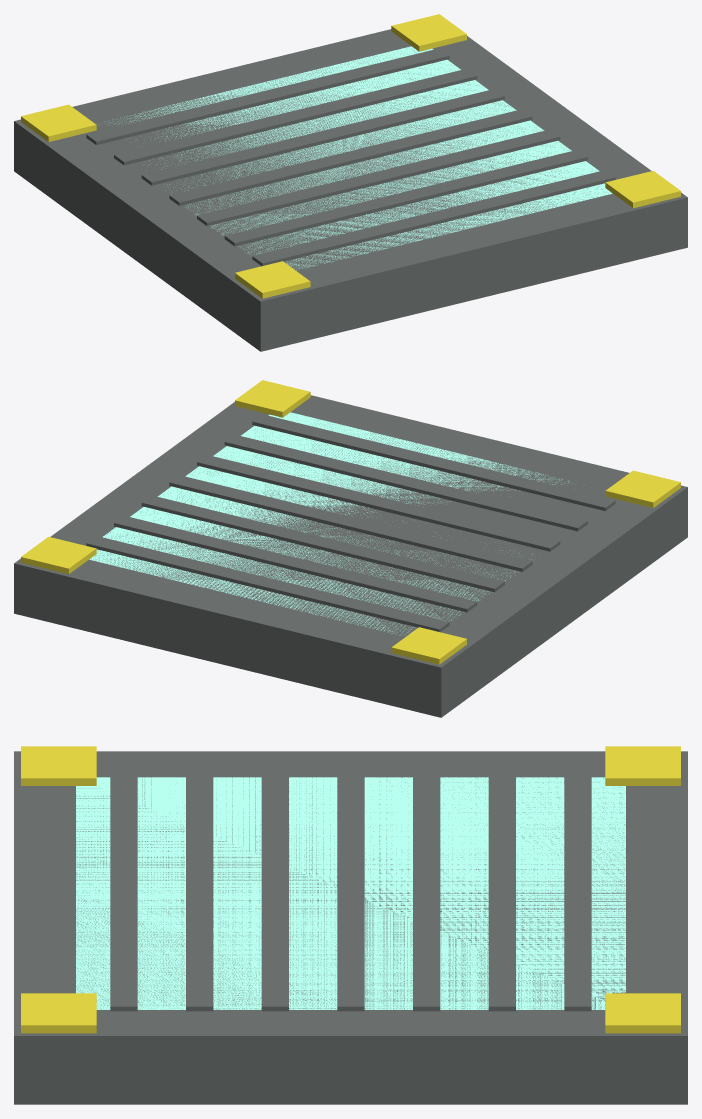
File: floor-tile-toxic.glb
The picture shows the model from 3 angles, top to bottom: view 1: azimuth 30°, elevation 25°; view 2: azimuth 150°, elevation 25°; view 3: azimuth 270°, elevation 25°; orthographic projection. The views are drawn at different scales.
Visible parts, largest first — view 1: Toxic_Floor_Slab, Toxic_Acid_Sub, Cube.001, Cube.003, Cube.005, Cube.002, Cube.006, Cube.004, Cube, Cube.010, Cube.007, Cube.008 (+1 smaller); view 2: Toxic_Floor_Slab, Toxic_Acid_Sub, Cube.005, Cube.001, Cube.003, Cube.004, Cube, Cube.002, Cube.006, Cube.009, Cube.008, Cube.007 (+1 smaller); view 3: Toxic_Floor_Slab, Toxic_Acid_Sub, Cube, Cube.003, Cube.006, Cube.001, Cube.002, Cube.004, Cube.005, Cube.009, Cube.010, Cube.007 (+1 smaller).
Part boxes in pixels (x1,y1,x2,y2): Toxic_Floor_Slab: (14, 29, 687, 351); Toxic_Acid_Sub: (110, 46, 612, 270); Cube.001: (224, 149, 587, 246); Cube.003: (169, 109, 532, 205); Cube.005: (114, 68, 477, 165); Cube.002: (197, 129, 560, 226); Cube.006: (86, 48, 449, 144); Cube.004: (141, 89, 504, 185); Cube: (252, 170, 615, 265); Cube.010: (391, 14, 466, 51); Cube.007: (235, 261, 310, 298); Cube.008: (21, 104, 96, 141); Toxic_Floor_Slab: (14, 395, 687, 717); Toxic_Acid_Sub: (89, 412, 568, 635); Cube.005: (114, 515, 477, 612); Cube.001: (224, 434, 587, 531); Cube.003: (169, 475, 532, 571); Cube.004: (141, 495, 504, 592); Cube: (252, 414, 615, 510); Cube.002: (197, 455, 560, 551); Cube.006: (86, 536, 449, 631); Cube.009: (235, 380, 310, 417); Cube.008: (391, 627, 466, 664); Cube.007: (605, 470, 680, 507); Toxic_Floor_Slab: (14, 751, 687, 1104); Toxic_Acid_Sub: (76, 777, 625, 1009); Cube: (110, 771, 137, 1011); Cube.003: (337, 771, 364, 1011); Cube.006: (564, 771, 591, 1011); Cube.001: (186, 771, 213, 1011); Cube.002: (261, 771, 288, 1011); Cube.004: (413, 771, 440, 1011); Cube.005: (488, 771, 515, 1011); Cube.009: (21, 993, 96, 1033); Cube.010: (605, 993, 680, 1033); Cube.007: (21, 746, 96, 785).
Size of the model in its own units: 1.96 by 0.245 by 1.96.
